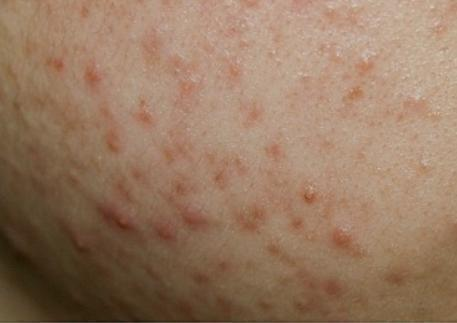blackhead: (168, 59, 202, 86)
papular: (84, 44, 127, 105), (327, 222, 371, 271), (268, 180, 337, 211), (187, 203, 218, 241), (152, 213, 181, 246)
purulent: (62, 235, 100, 263), (113, 206, 133, 240)
whitehead: (357, 47, 393, 84), (414, 153, 441, 177), (60, 167, 84, 191)
